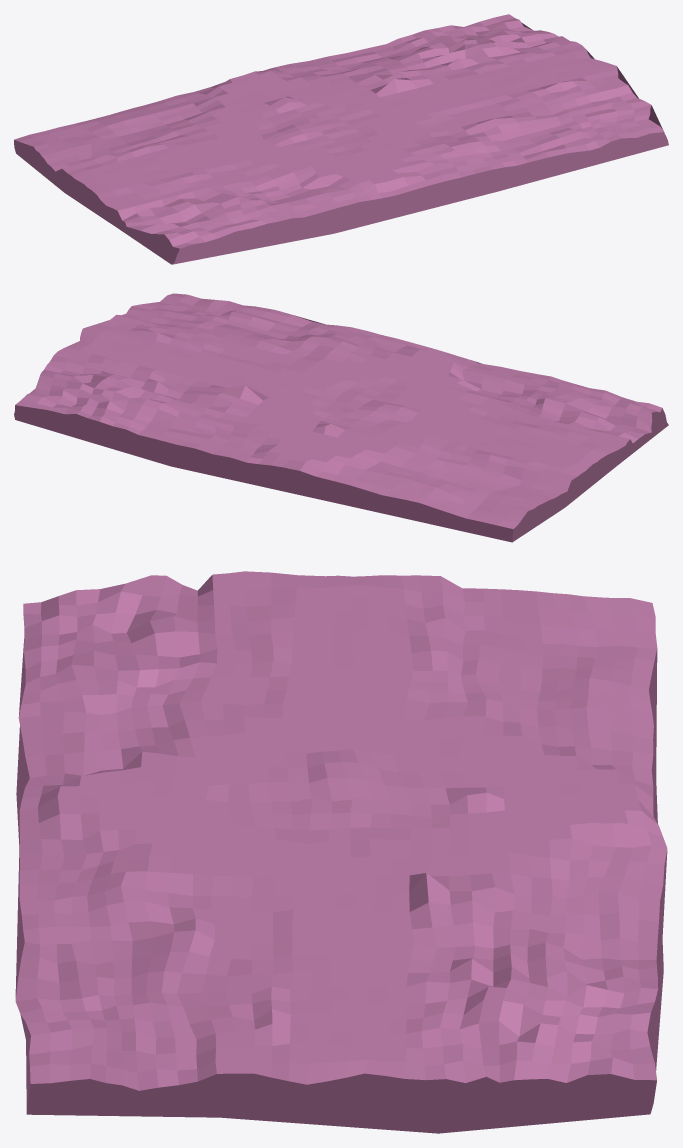
File: zemın5.fbx
3 views of the same model, one above another, from view 1: azimuth 30°, elevation 25°; view 2: azimuth 150°, elevation 25°; view 3: azimuth 270°, elevation 25° (orthographic). The views are drawn at different scales.
Visible parts, largest first — view 1: Plane.019; view 2: Plane.019; view 3: Plane.019.
Boxes of the visible parts, <box> form: Plane.019: <box>14,14,668,264</box>; Plane.019: <box>14,293,668,542</box>; Plane.019: <box>15,571,667,1133</box>.
Size of the model in its own units: 5411 by 419 by 2888.
